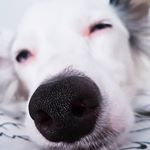puppy: (8, 1, 138, 150)
